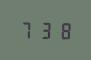eight: (53, 20, 69, 40)
seven: (18, 19, 34, 39)
three: (36, 19, 52, 40)
